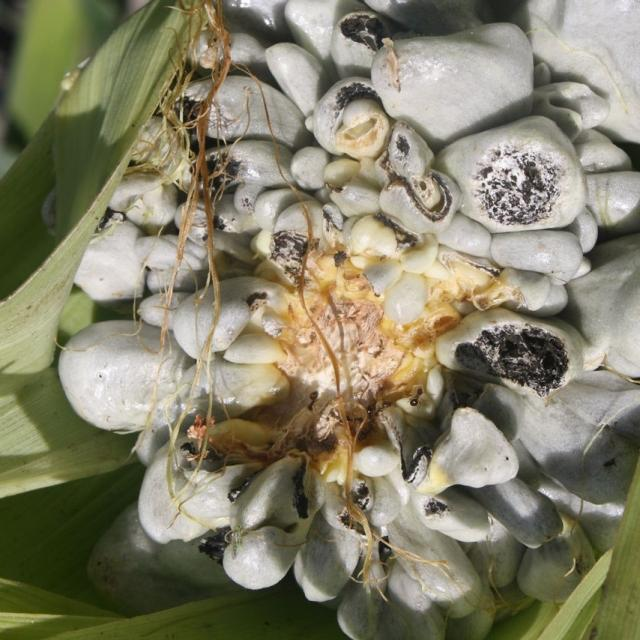Leaf_Scald: (30, 0, 640, 640)
